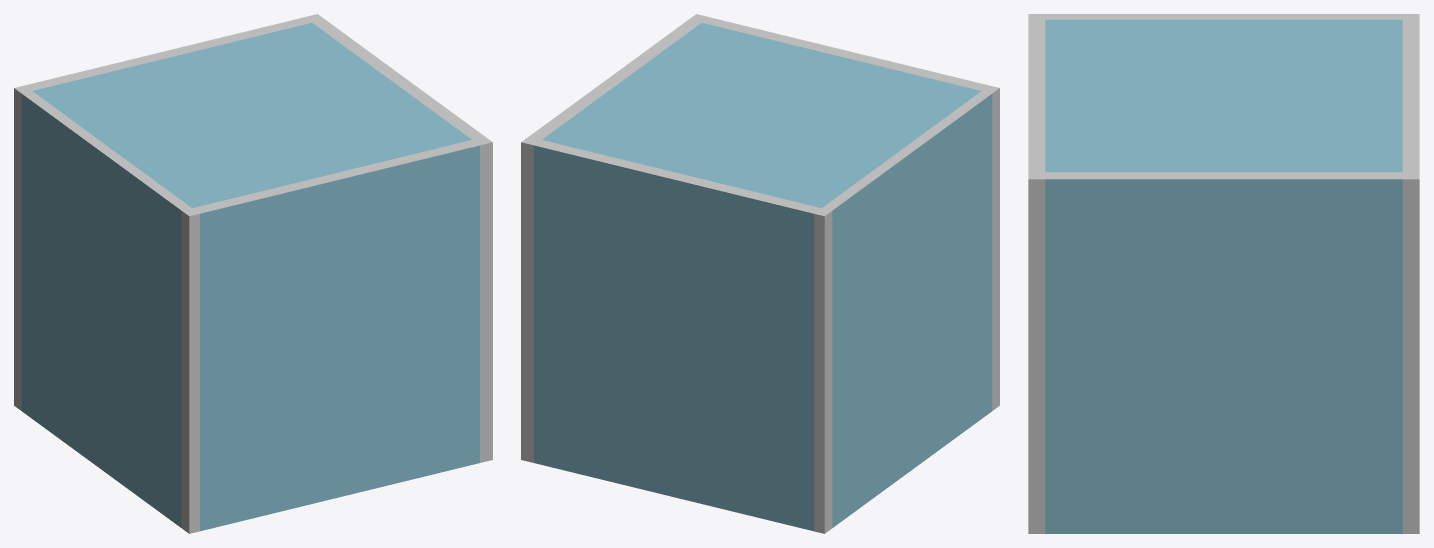
3 renders of one model, left to right at view 1: azimuth 30°, elevation 25°; view 2: azimuth 150°, elevation 25°; view 3: azimuth 270°, elevation 25°, orthographic. The views are drawn at different scales.
Visible parts, largest first — view 1: Cube; view 2: Cube; view 3: Cube.
Boxes of the visible parts, left/top/right/bottom form: Cube: left=14, top=14, right=492, bottom=533; Cube: left=521, top=14, right=999, bottom=533; Cube: left=1028, top=14, right=1419, bottom=533.
Size of the model in its own units: 2 by 2 by 2.
